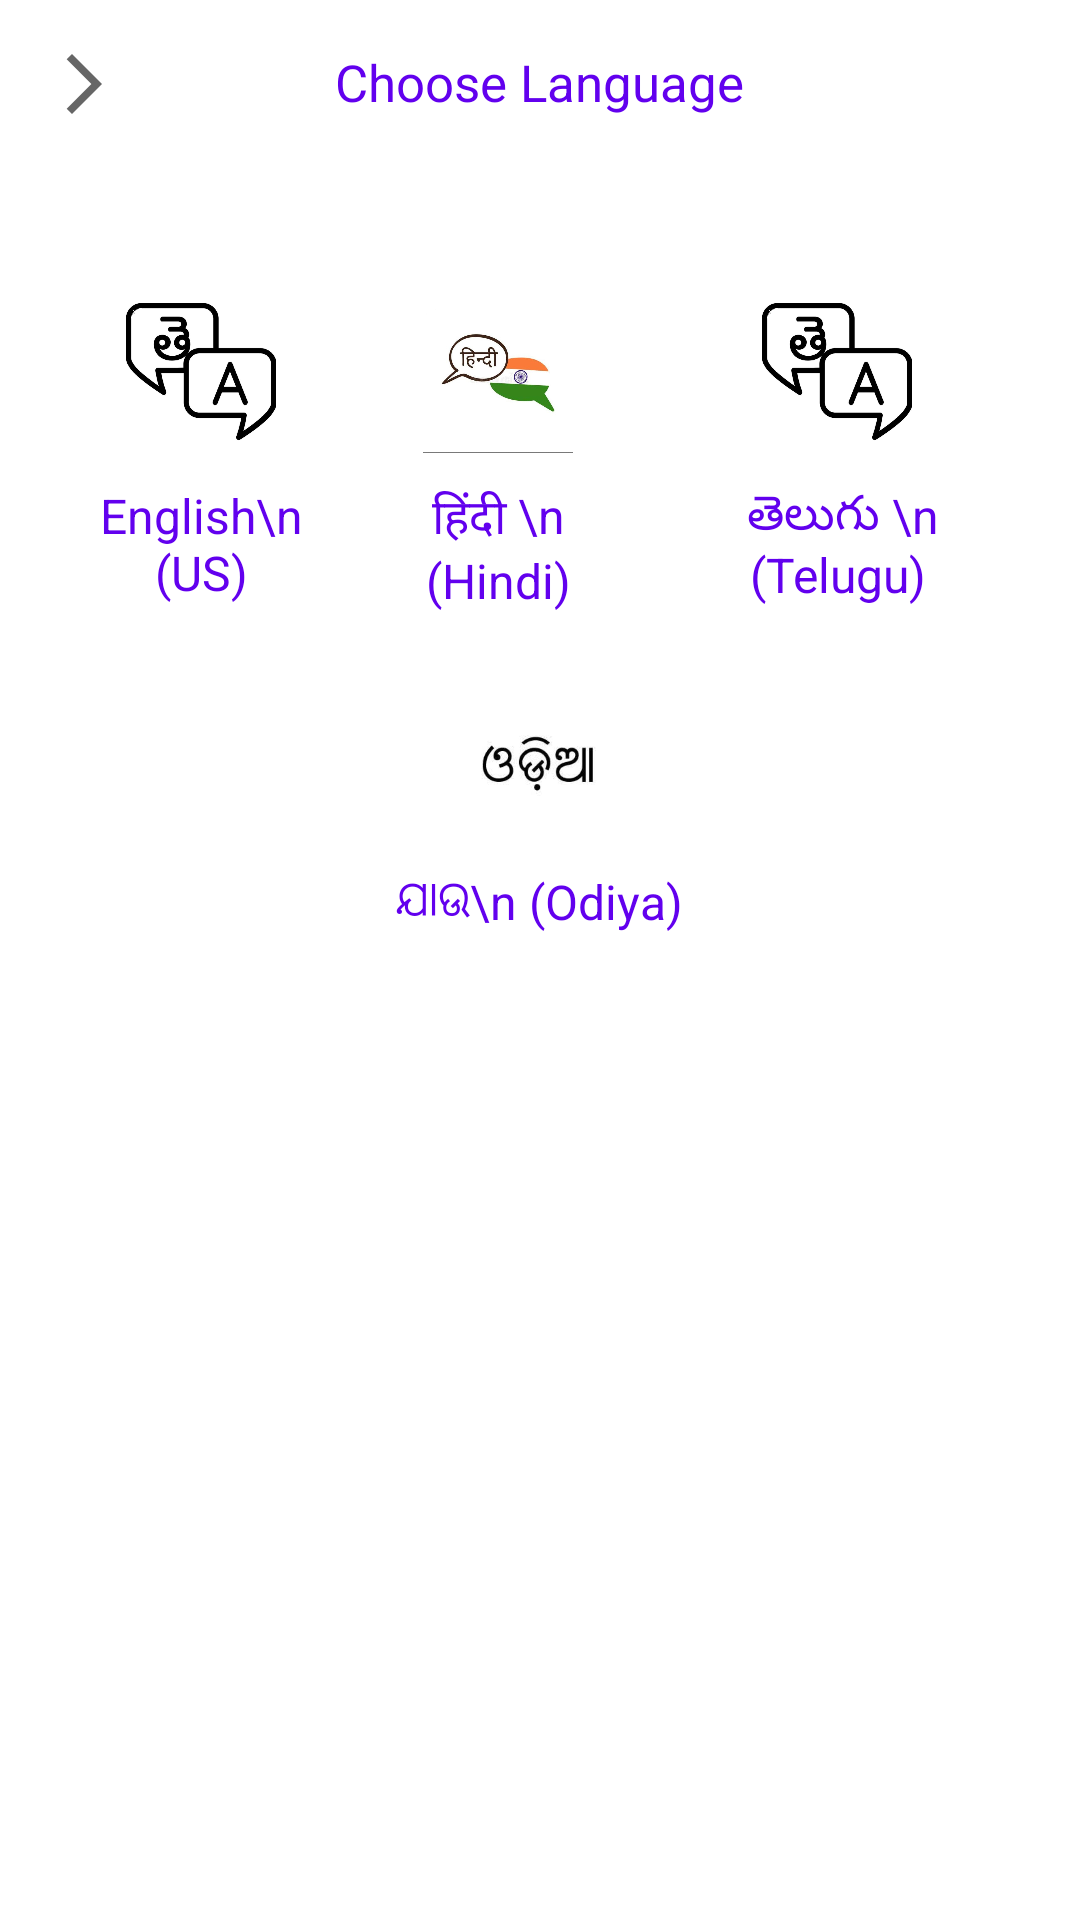

Named icons in this screenshot (1080px x 1920px) and their centers, [x,y]:
arrow forward: [84,84]
